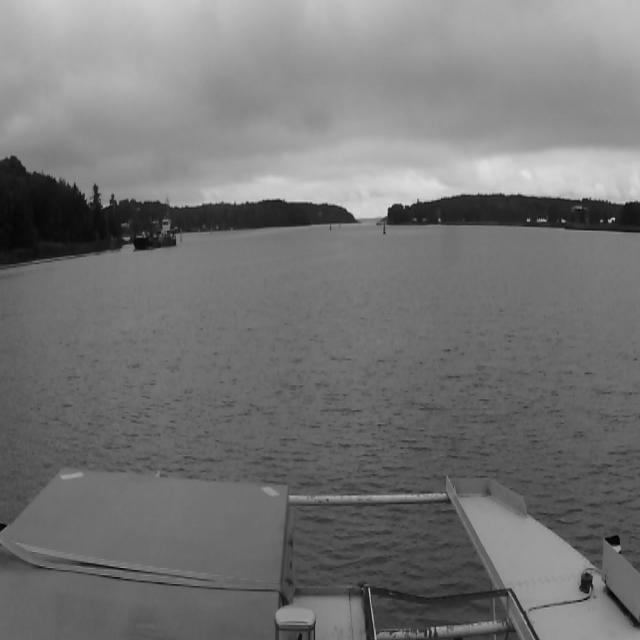buoy: (382, 220, 386, 234), (180, 228, 182, 242), (329, 223, 331, 230), (210, 228, 212, 235), (339, 223, 341, 228)
ship: (133, 204, 176, 249)
